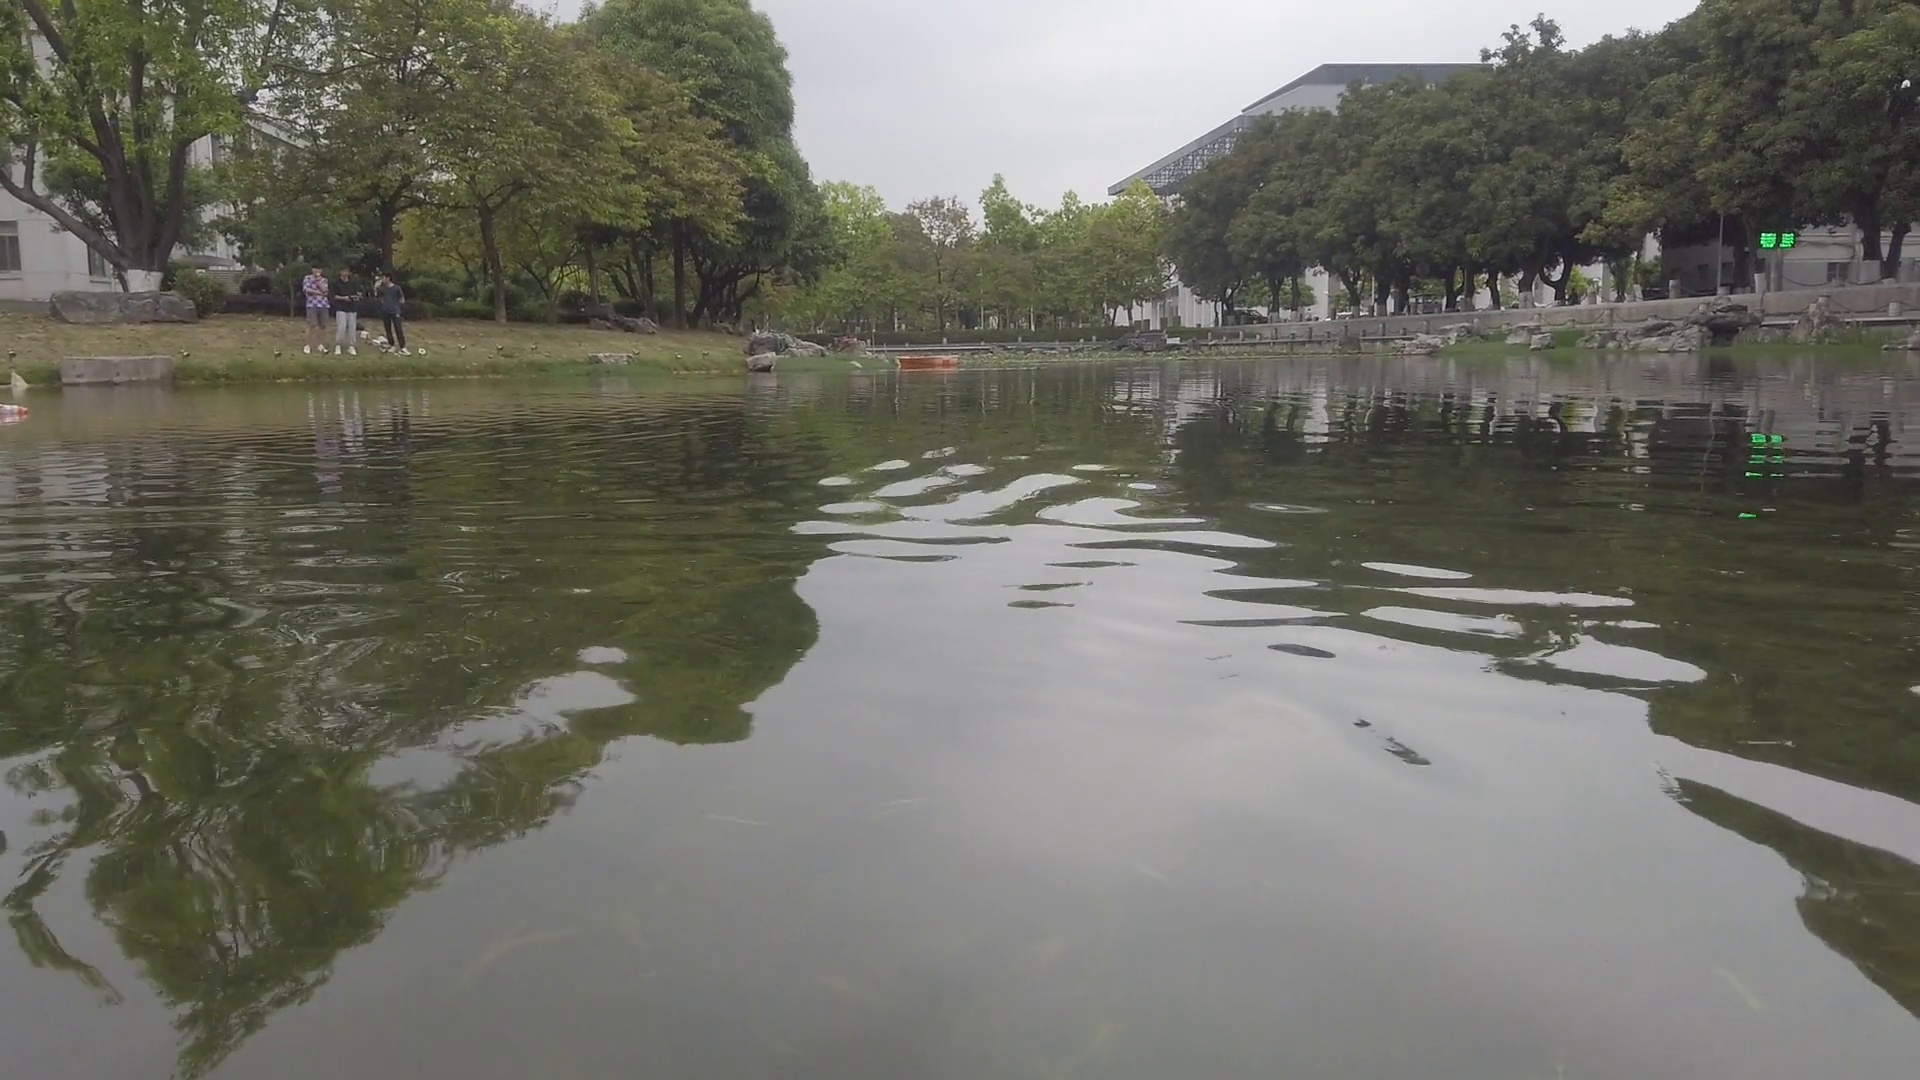bottle: (3, 400, 28, 418)
